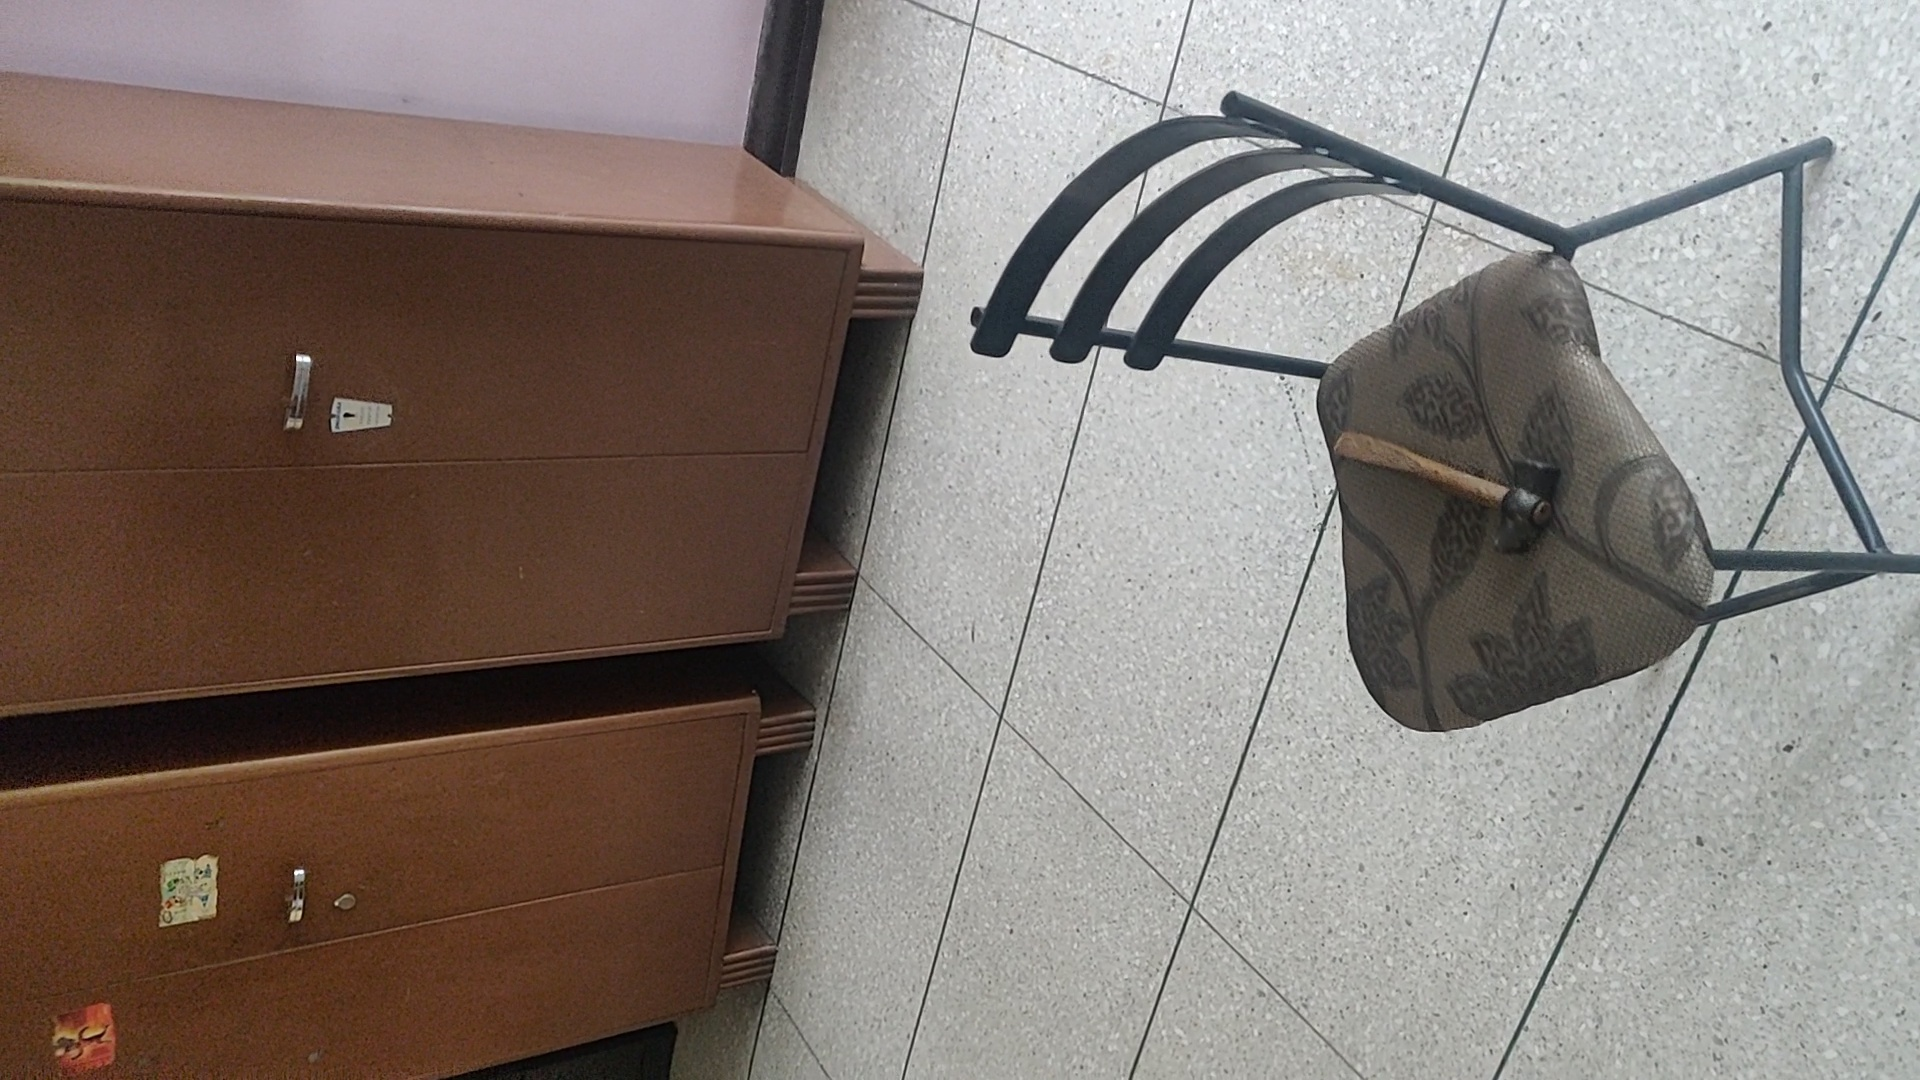hammer: (1335, 429, 1559, 555)
